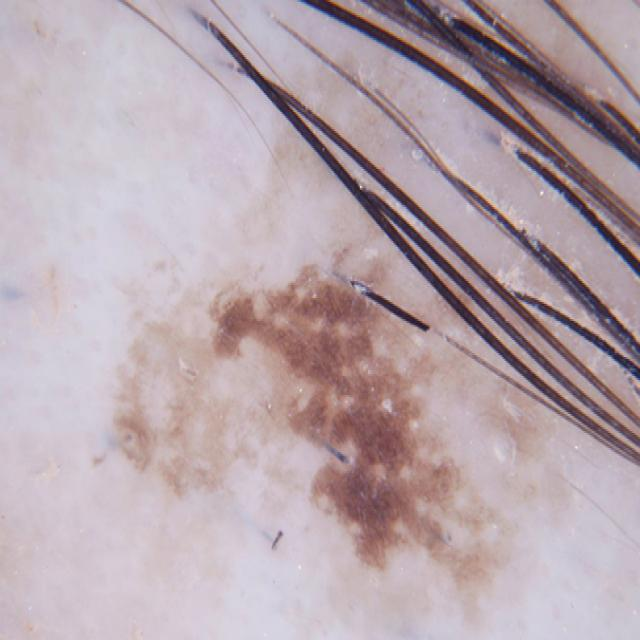Keratosis: (163, 244, 495, 610)
